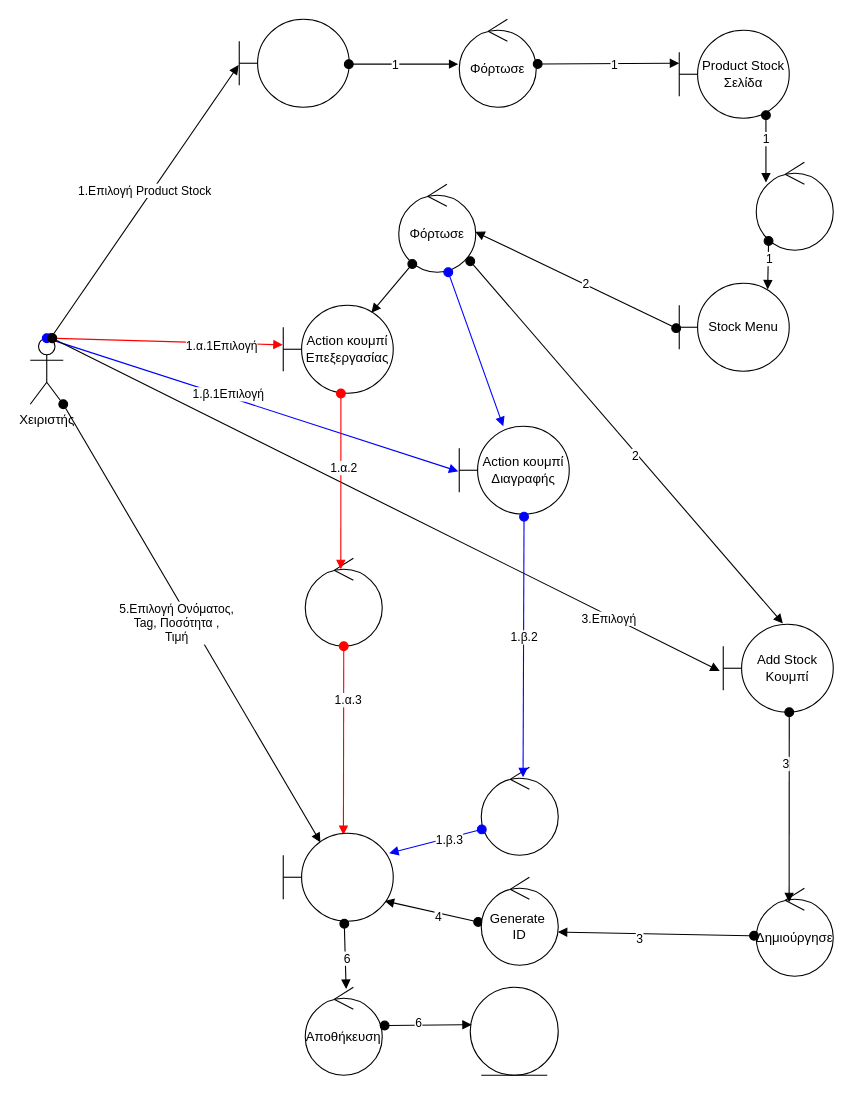
The diagram is 853 pixels wide and 1095 high, and some of its shapes have lost their labels. Here are the shapes that lost their labels. From the top down, the centre of each, then its label:
At (293,62): "Navigation menu".
At (794,205): "Εμφάνισε".
At (343,601): "Άλλαξε".
At (519,810): "Διέγραψε".
At (337,876): "Καταχώρηση".
At (513,1030): "Data Base".
